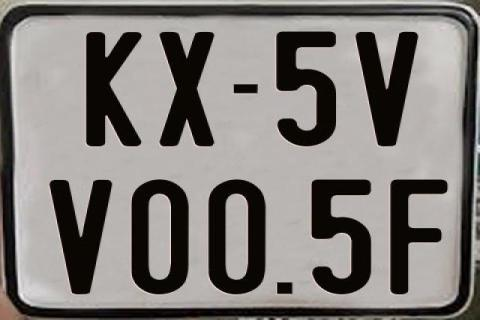0: (274, 30, 339, 150), (308, 177, 374, 295), (205, 179, 267, 297), (131, 177, 194, 292)
F: (388, 177, 449, 292)
K: (85, 30, 142, 148)
V: (48, 178, 116, 296), (353, 32, 419, 146)
X: (157, 31, 215, 151)
